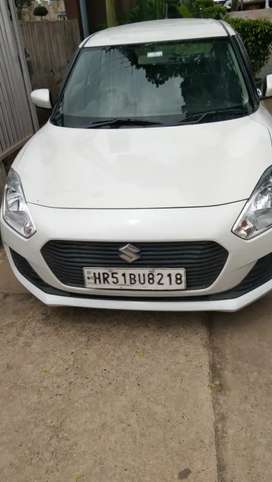HR51BU8218: (84, 266, 185, 289)
